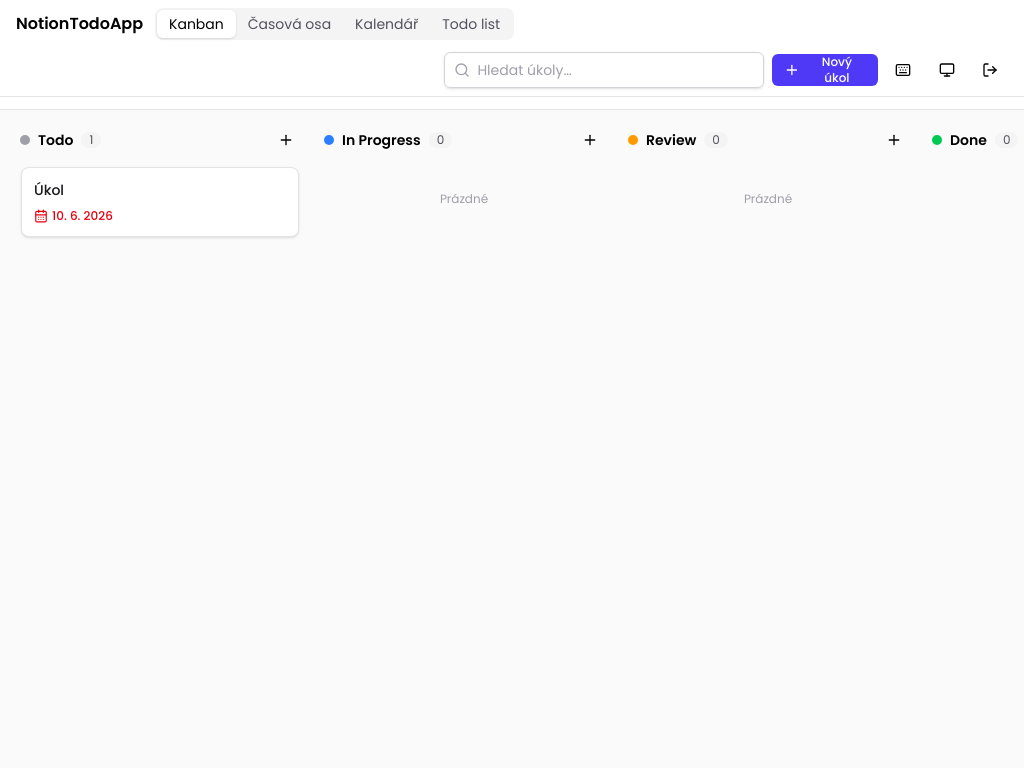
Scenario: DashboardPage › vykreslí layout a přepne pohled na kalendář (lazy)
Check: the text "NotionTodoApp" is shown, box left=16, top=12, right=143, bottom=36
Check: the heading "Todo" is shown, box left=38, top=130, right=73, bottom=150
Click the button "Kalendář" at {"x": 387, "y": 24}, box left=343, top=10, right=430, bottom=38
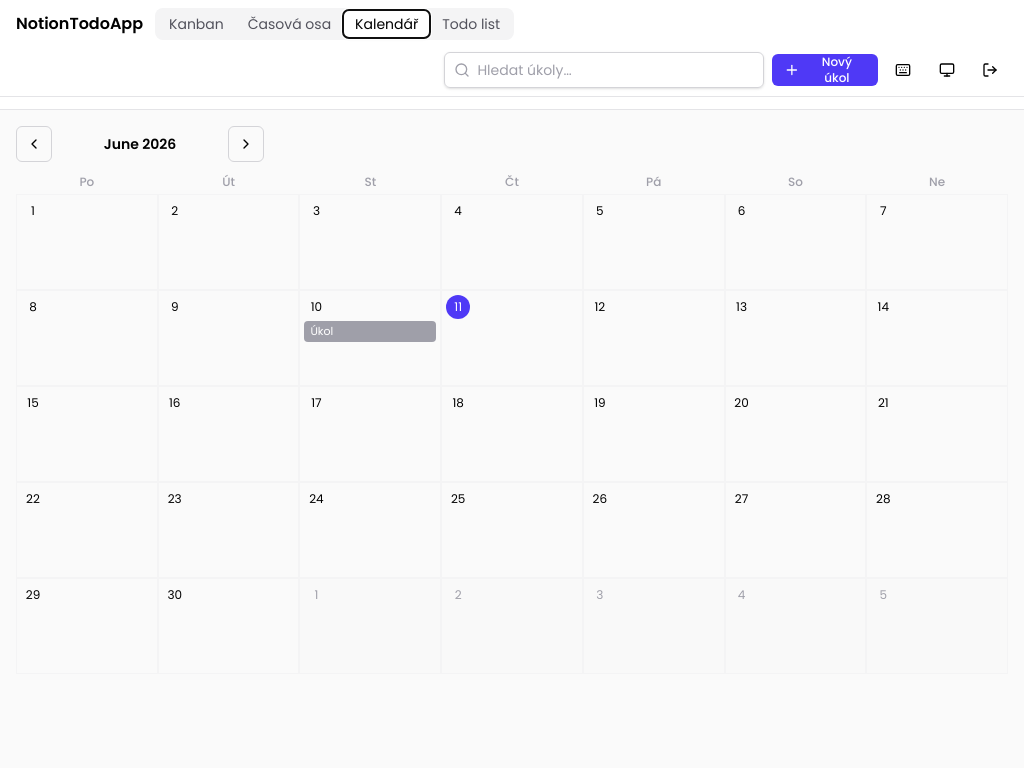
Check: the text "Po" is shown, box left=80, top=173, right=94, bottom=190
